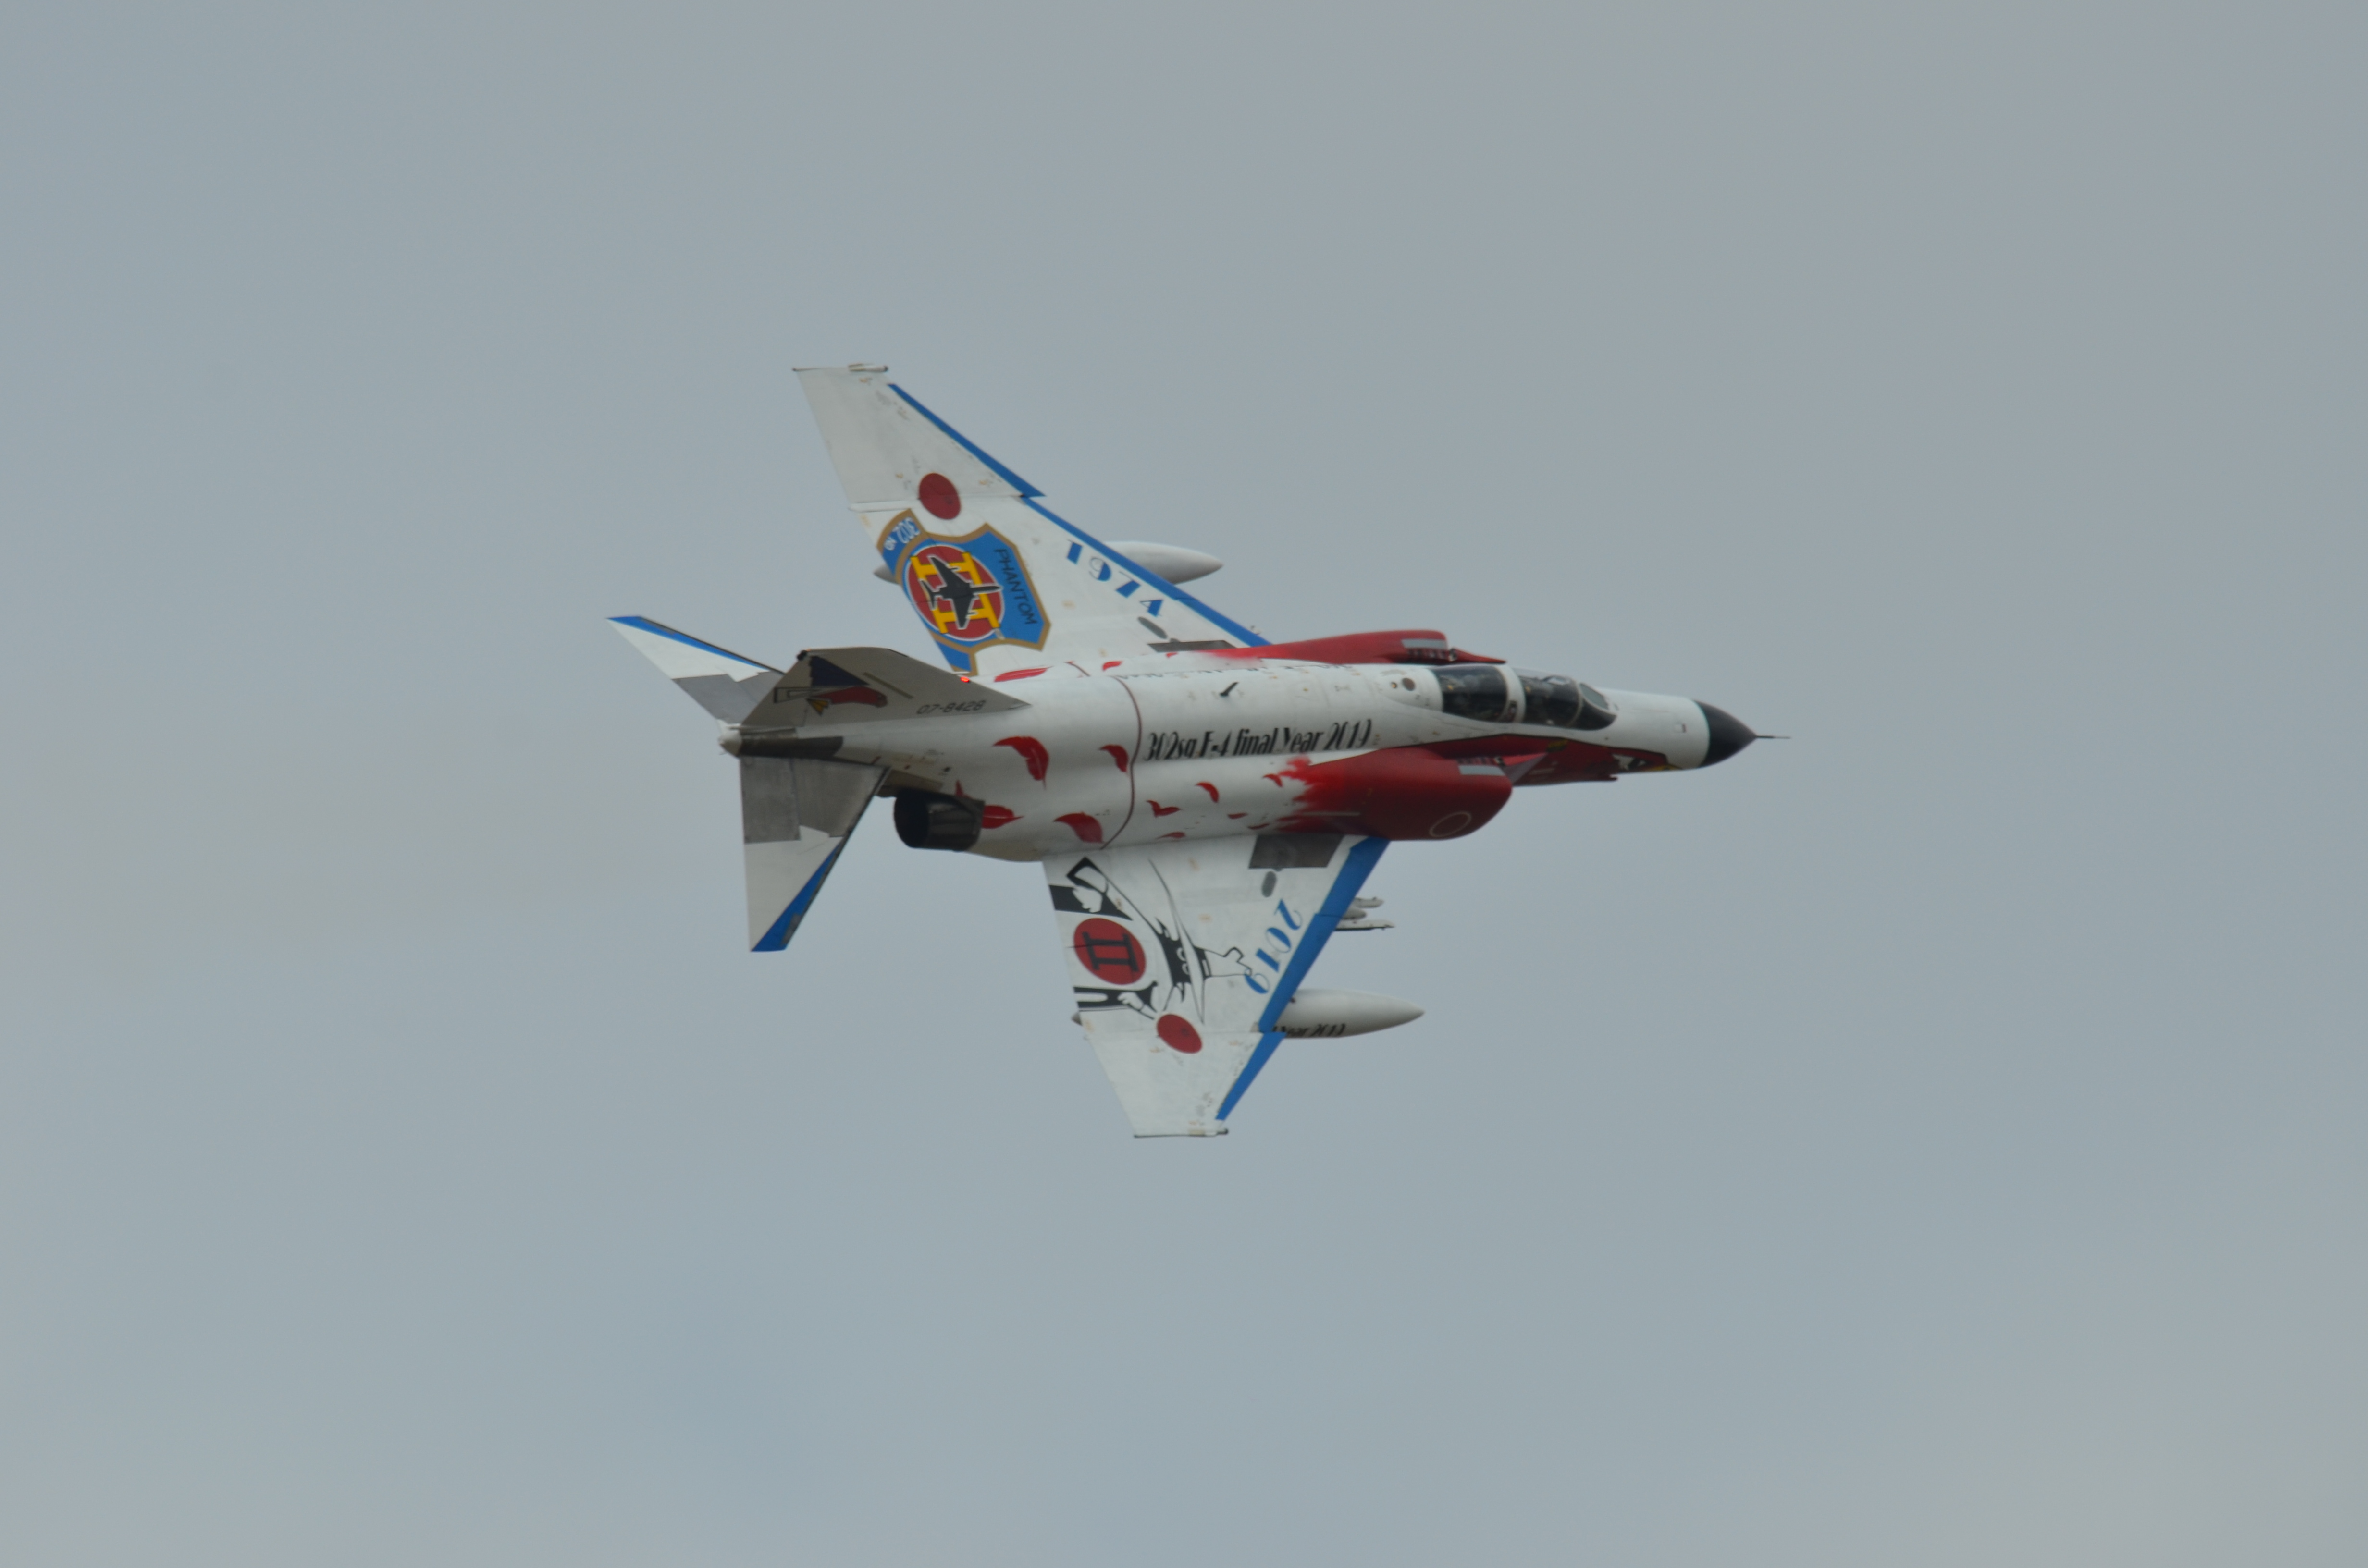F4: (602, 362, 1792, 1139)
